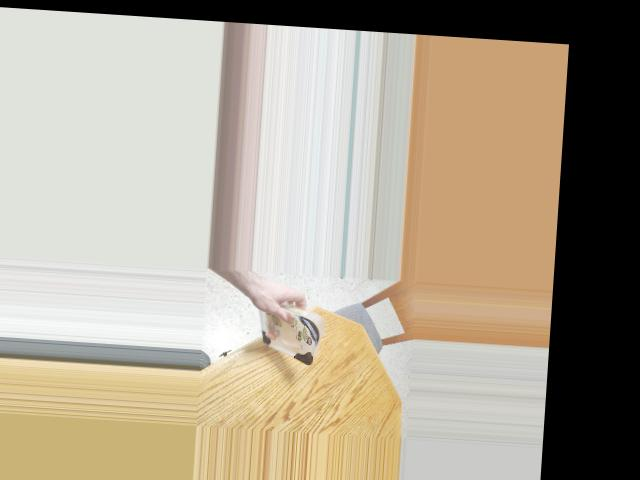cheese: (249, 305, 322, 360)
